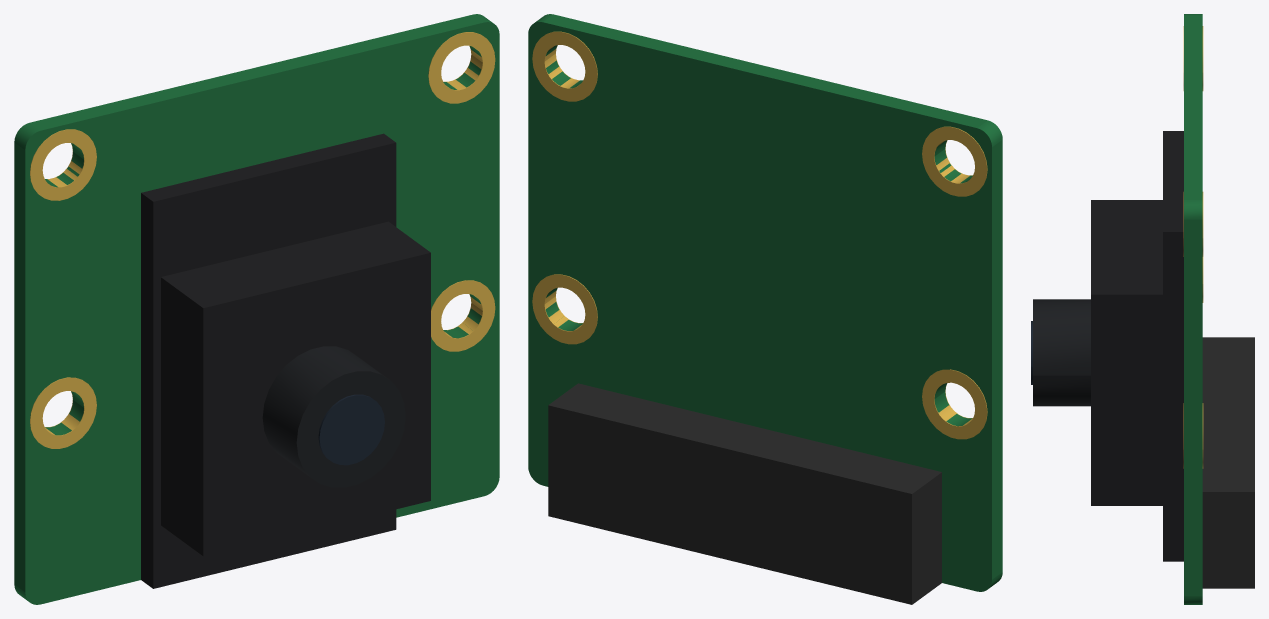
File: rpi-ai-camera-bb.glb
The picture shows the model from 3 angles, left to right: view 1: azimuth 30°, elevation 25°; view 2: azimuth 150°, elevation 25°; view 3: azimuth 270°, elevation 25°; orthographic projection. The views are drawn at different scales.
Visible parts, largest first — view 1: board, sensor_block, sensor_base, lens, lens_glass, hole_2, hole_4, hole_1, hole_3; view 2: board, fpc_connector, hole_2, hole_4, hole_1, hole_3; view 3: sensor_block, fpc_connector, board, sensor_base, lens.
Boxes of the visible parts, bbox=[...] form: board: bbox=[14, 14, 499, 604]; sensor_block: bbox=[161, 221, 430, 556]; sensor_base: bbox=[141, 133, 396, 588]; lens: bbox=[262, 346, 405, 487]; lens_glass: bbox=[318, 394, 384, 465]; hole_2: bbox=[428, 32, 495, 103]; hole_4: bbox=[431, 280, 495, 351]; hole_1: bbox=[30, 129, 96, 200]; hole_3: bbox=[30, 377, 96, 448]; board: bbox=[528, 14, 1002, 591]; fpc_connector: bbox=[548, 383, 941, 604]; hole_2: bbox=[532, 31, 597, 101]; hole_4: bbox=[532, 274, 597, 344]; hole_1: bbox=[922, 126, 987, 196]; hole_3: bbox=[922, 369, 987, 439]; sensor_block: bbox=[1091, 200, 1162, 505]; fpc_connector: bbox=[1202, 337, 1254, 588]; board: bbox=[1184, 14, 1202, 604]; sensor_base: bbox=[1163, 131, 1183, 561]; lens: bbox=[1033, 299, 1090, 406].
Bounding box in the file's own units: 25 × 23.86 × 12.
